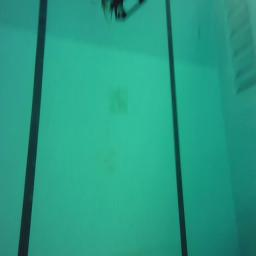Full: (101, 2, 145, 22)
